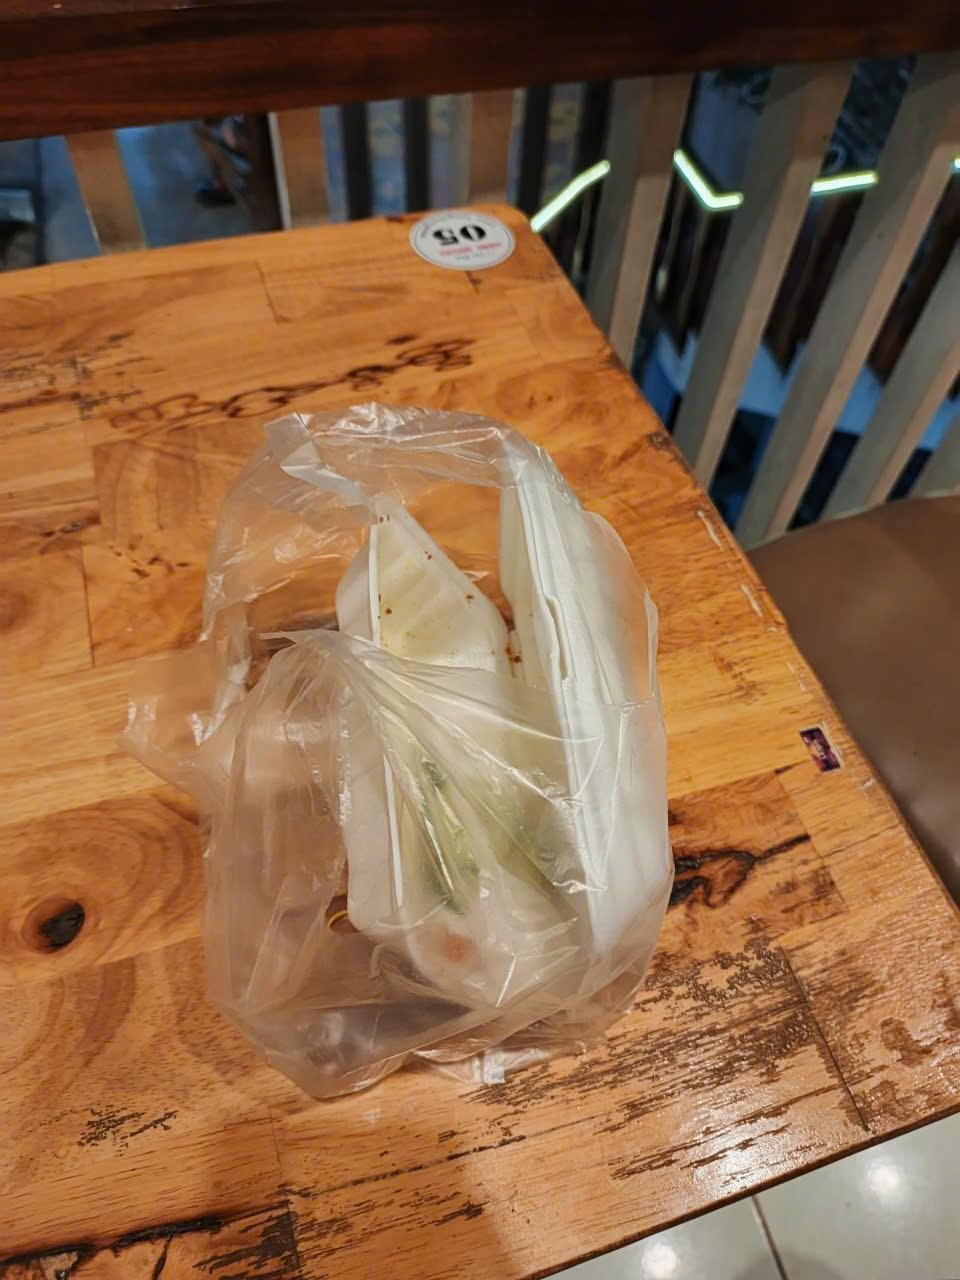Con lai: (198, 415, 676, 1093)
